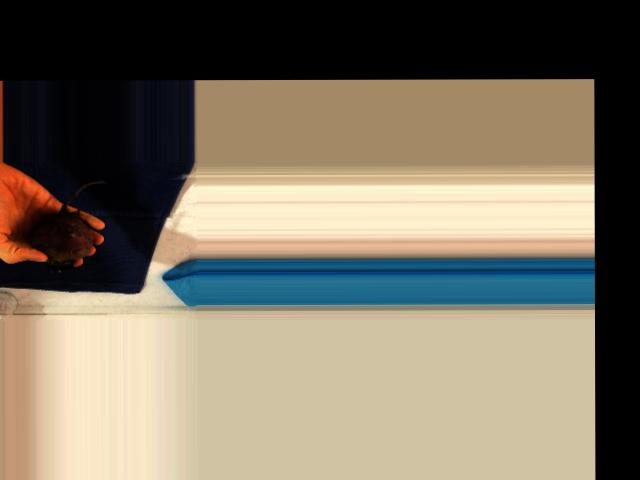beet: (29, 180, 108, 272)
